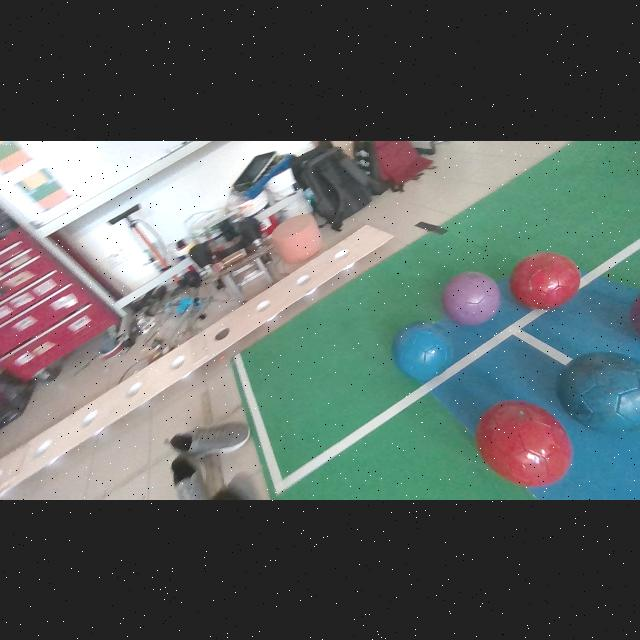B: (558, 352, 640, 432), (393, 321, 453, 382)
P: (443, 270, 501, 324)
R: (476, 400, 571, 486), (510, 251, 581, 308)
